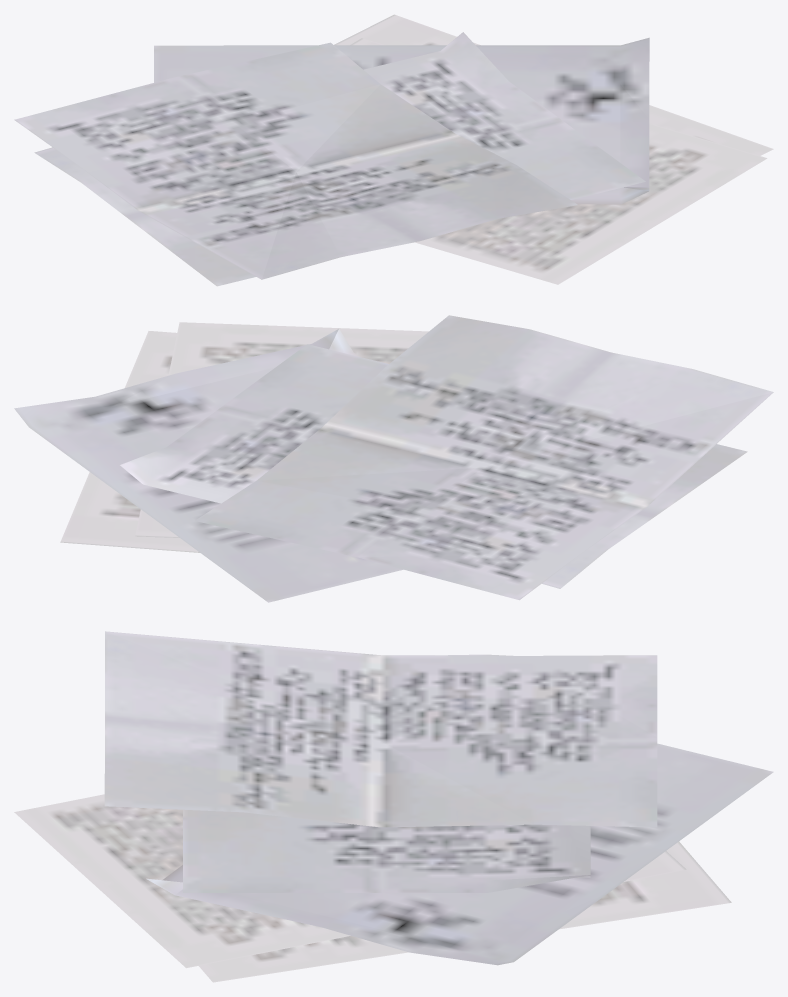
The model's file is Paper_Pile03.FBX.
3 views of the same model, one above another, from view 1: azimuth 30°, elevation 25°; view 2: azimuth 150°, elevation 25°; view 3: azimuth 270°, elevation 25° (orthographic). The views are drawn at different scales.
Parts seen in each view (by area): view 1: Paper_Pile03; view 2: Paper_Pile03; view 3: Paper_Pile03.
Boxes of the visible parts, <box> form: Paper_Pile03: <box>14,14,773,286</box>; Paper_Pile03: <box>14,315,773,602</box>; Paper_Pile03: <box>14,631,773,982</box>.
Size of the model in its own units: 0.5027 by 0.0375 by 0.5175.
